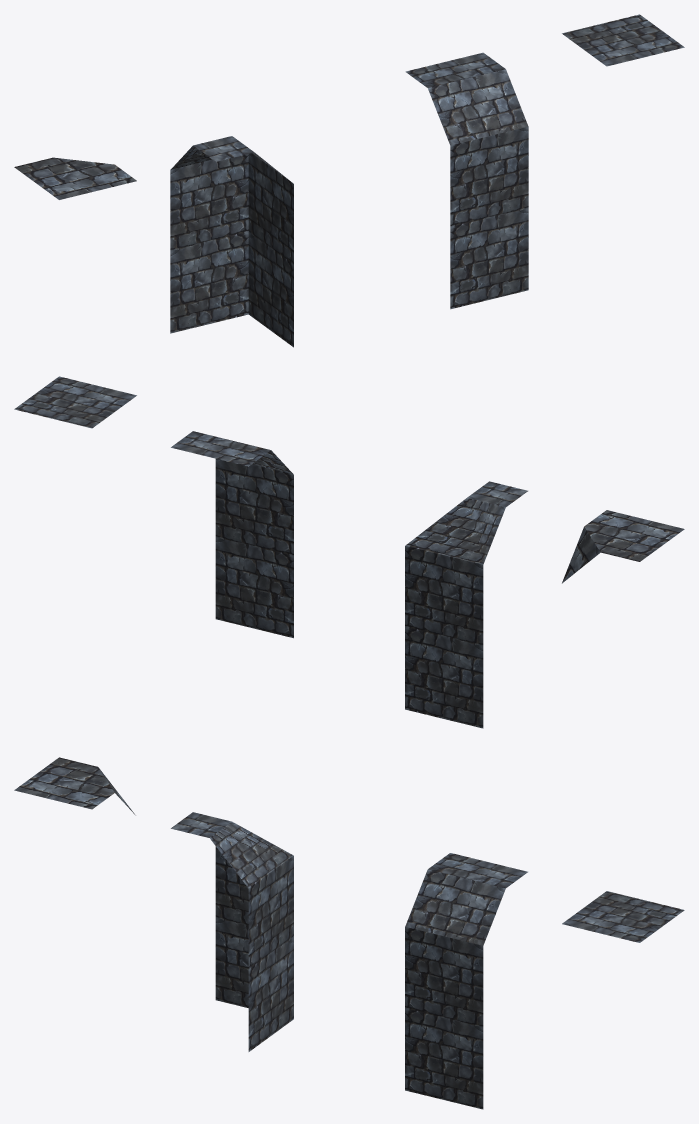
The model's file is DungeonTiles4.glb.
The picture shows the model from 3 angles, top to bottom: view 1: azimuth 30°, elevation 25°; view 2: azimuth 150°, elevation 25°; view 3: azimuth 330°, elevation 25°; orthographic projection.
Visible parts, largest first — view 1: corner-in-col, wall-col, floor-col, corner-out-col; view 2: corner-in-col, wall-col, corner-out-col, floor-col; view 3: wall-col, corner-in-col, floor-col, corner-out-col.
Boxes of the visible parts, left/top/right/bottom form: corner-in-col: left=170, top=136, right=293, bottom=347; wall-col: left=405, top=52, right=528, bottom=309; floor-col: left=562, top=14, right=684, bottom=66; corner-out-col: left=14, top=157, right=136, bottom=199; corner-in-col: left=405, top=481, right=527, bottom=728; wall-col: left=171, top=431, right=293, bottom=638; corner-out-col: left=562, top=510, right=684, bottom=583; floor-col: left=14, top=376, right=136, bottom=428; wall-col: left=405, top=853, right=527, bottom=1109; corner-in-col: left=171, top=812, right=293, bottom=1051; floor-col: left=562, top=891, right=684, bottom=942; corner-out-col: left=14, top=757, right=135, bottom=815.
Bounding box in the file's own units: 8 × 2.5 × 1.
Materials: 1 (1 with a texture image).
